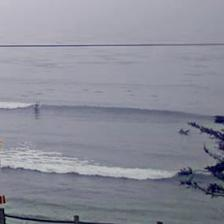surfer: (34, 102, 39, 108)
